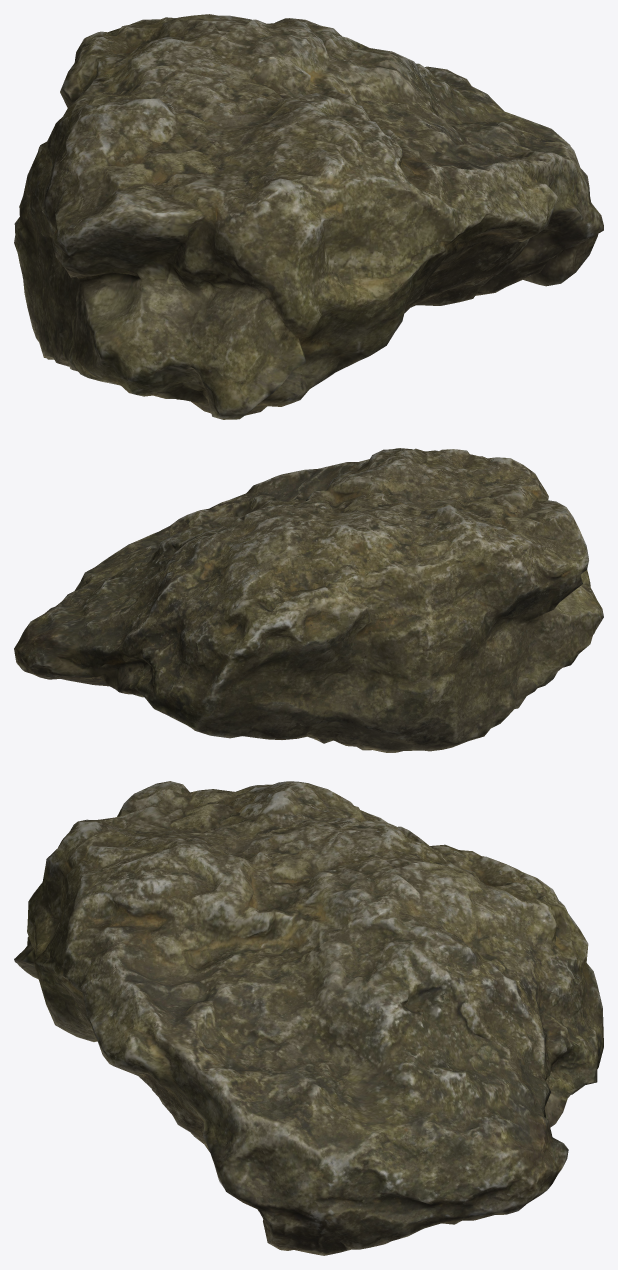
The model's file is rock-pack-vol-2.fbx.
3 renders of one model, top to bottom at view 1: azimuth 30°, elevation 25°; view 2: azimuth 150°, elevation 25°; view 3: azimuth 270°, elevation 25°, orthographic. The views are drawn at different scales.
Parts seen in each view (by area): view 1: moss rock 13; view 2: moss rock 13; view 3: moss rock 13.
Boxes of the visible parts, x1,y1,x2,y2 form: moss rock 13: (14,14,603,419); moss rock 13: (14,448,603,752); moss rock 13: (14,781,603,1255).
Size of the model in its own units: 158 by 73.6 by 144.
